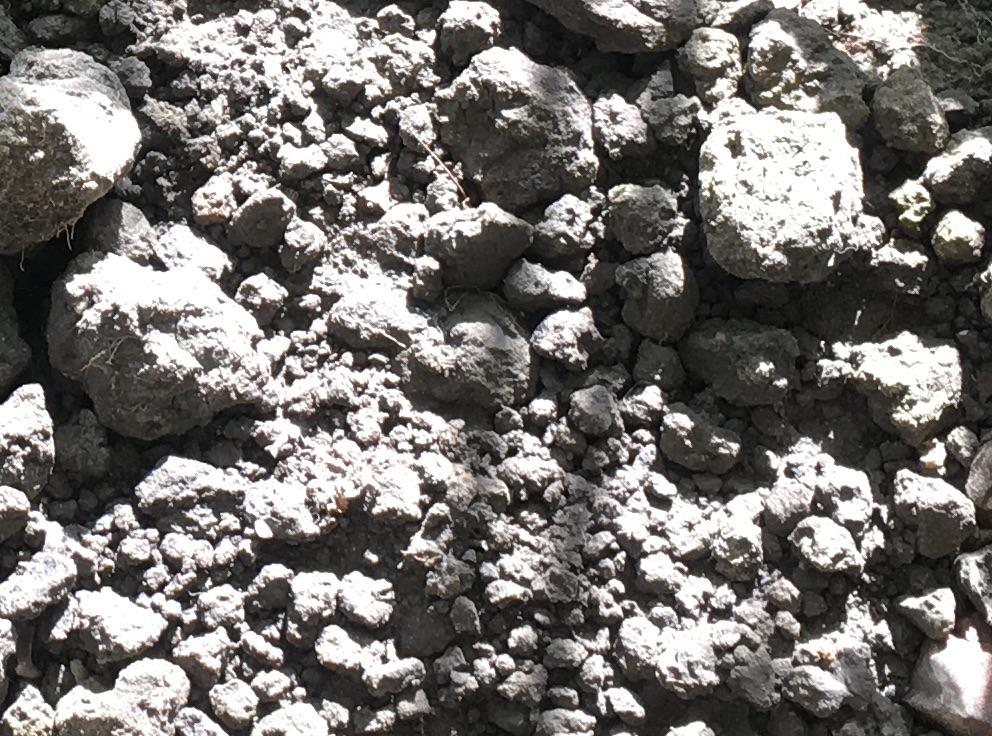block: (42, 250, 263, 440), (691, 104, 860, 284), (2, 44, 143, 254), (429, 45, 598, 207)
